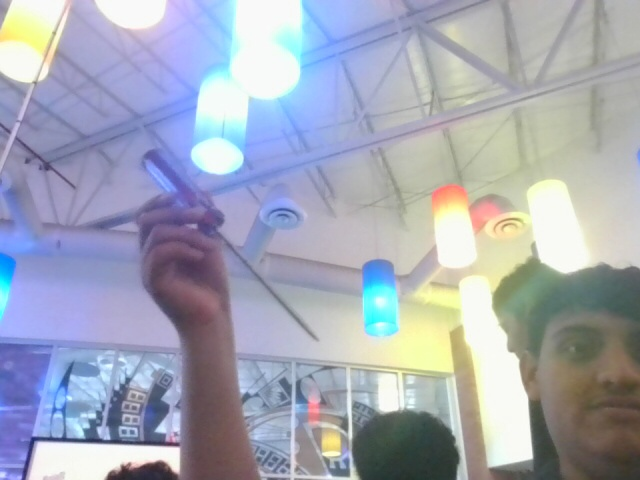destornillador: (136, 149, 334, 344)
